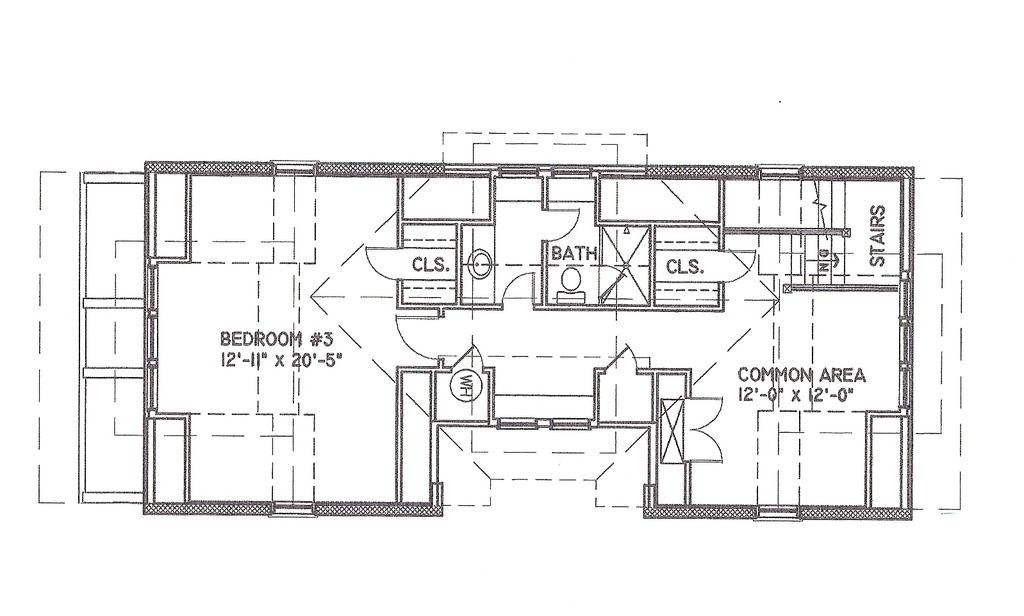door: (686, 392, 724, 466), (393, 311, 440, 364), (498, 267, 540, 311), (721, 246, 757, 283), (363, 244, 398, 280), (546, 205, 580, 239), (603, 345, 642, 371), (452, 345, 482, 370)
large_sink: (553, 263, 586, 303)
windows: (268, 158, 318, 178), (757, 163, 807, 182), (757, 507, 803, 522), (274, 501, 316, 517)
